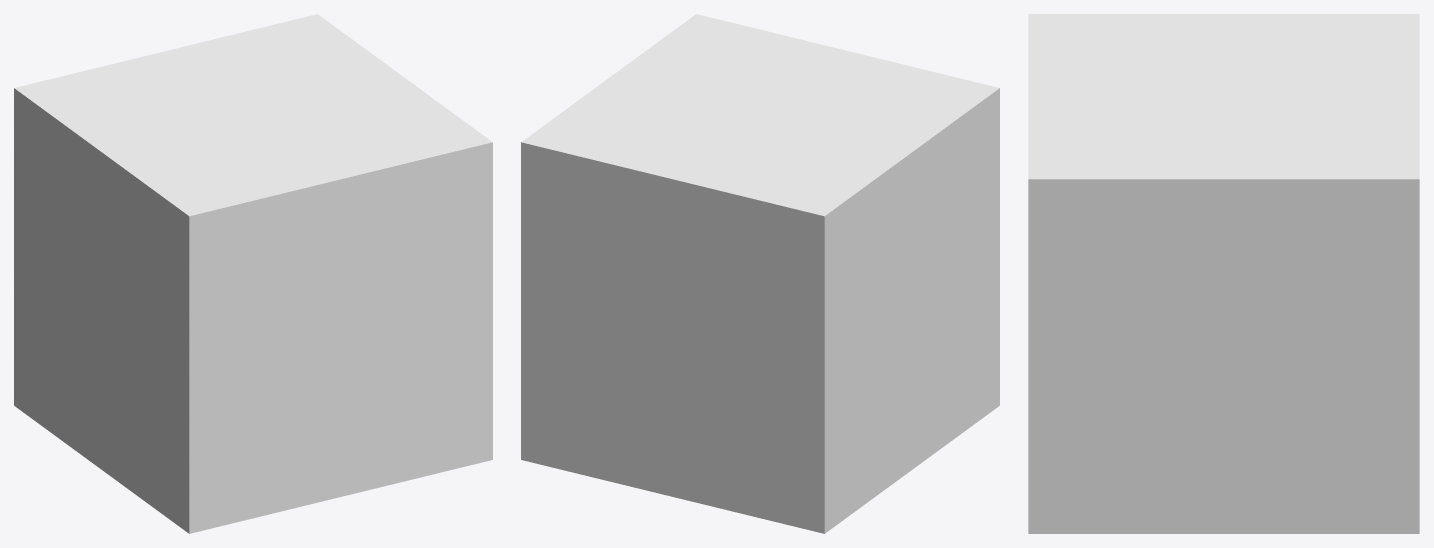
3 renders of one model, left to right at view 1: azimuth 30°, elevation 25°; view 2: azimuth 150°, elevation 25°; view 3: azimuth 270°, elevation 25°, orthographic. The views are drawn at different scales.
Visible parts, largest first — view 1: slime; view 2: slime; view 3: slime.
Part boxes in pixels (x1=…): slime: x1=14, y1=14, x2=492, y2=533; slime: x1=521, y1=14, x2=999, y2=533; slime: x1=1028, y1=14, x2=1419, y2=533.
Bounding box in the file's own units: 8 × 8 × 8.
1 material, 1 textured.
